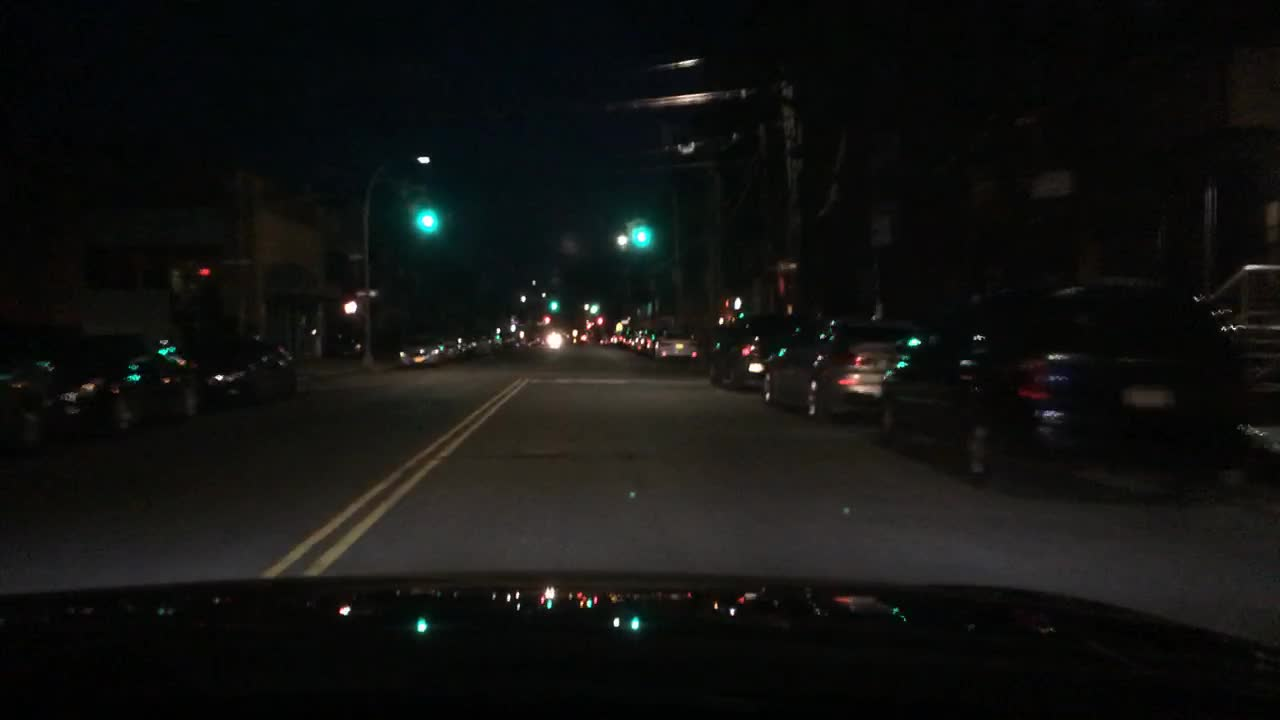car: (873, 277, 1248, 500), (22, 331, 202, 434), (757, 316, 925, 411), (165, 328, 303, 409), (706, 311, 797, 386), (0, 354, 52, 441), (652, 326, 698, 361), (398, 331, 444, 365), (439, 335, 471, 358), (563, 327, 592, 347), (502, 326, 529, 346), (543, 330, 562, 352), (472, 333, 495, 351), (631, 330, 648, 351), (621, 329, 636, 348), (489, 331, 506, 346), (527, 329, 541, 344), (607, 331, 621, 346), (592, 334, 608, 345)
traffic light: (417, 199, 434, 232), (631, 219, 650, 247), (199, 265, 213, 299), (589, 296, 600, 318), (344, 301, 358, 313), (549, 296, 560, 311), (734, 298, 744, 309), (722, 298, 729, 309)
traffic sign: (1033, 169, 1075, 197), (773, 254, 796, 276), (222, 255, 252, 267), (342, 247, 364, 260), (353, 289, 379, 298)
